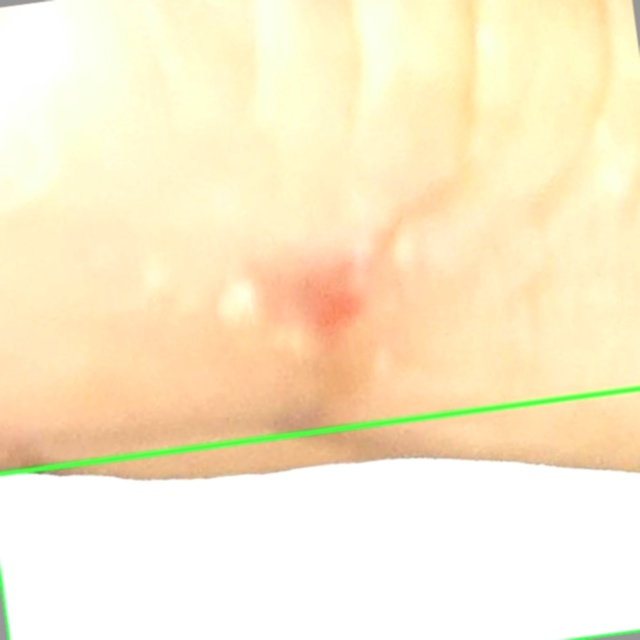Contact Dermatitis: (0, 388, 639, 639)
